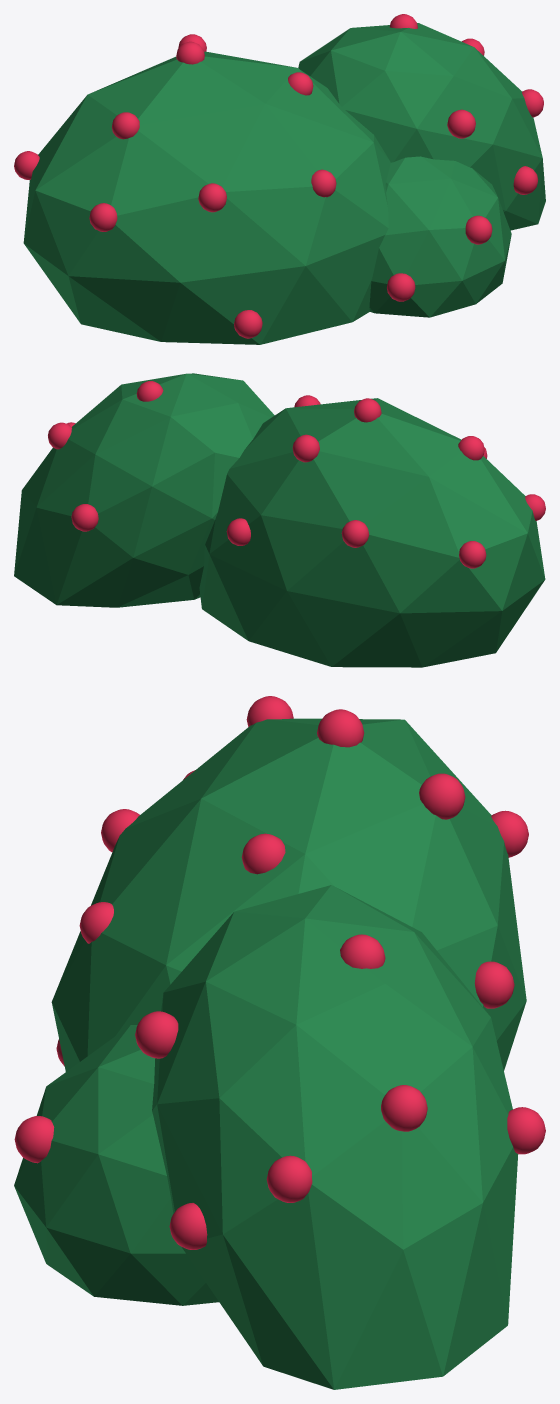
File: Berry_Bush.glb
3 renders of one model, top to bottom at view 1: azimuth 30°, elevation 25°; view 2: azimuth 150°, elevation 25°; view 3: azimuth 270°, elevation 25°, orthographic. The views are drawn at different scales.
Parts seen in each view (by area): view 1: Sphere; view 2: Sphere; view 3: Sphere.
Part boxes in pixels (x1,y1,x2,y2): Sphere: [14, 14, 545, 344]; Sphere: [14, 373, 545, 667]; Sphere: [14, 696, 545, 1389].
Bounding box in the file's own units: 20.46 × 9.24 × 11.22.
